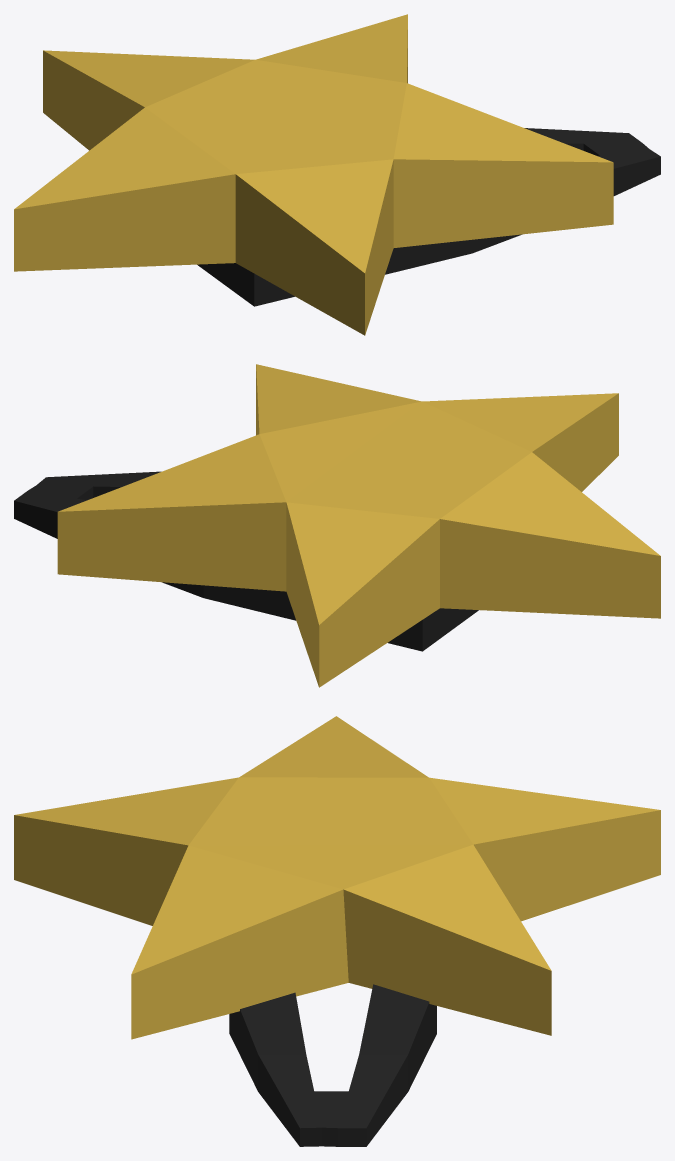
The model's file is starclip old.fbx.
3 views of the same model, one above another, from view 1: azimuth 30°, elevation 25°; view 2: azimuth 150°, elevation 25°; view 3: azimuth 270°, elevation 25° (orthographic). The views are drawn at different scales.
Parts seen in each view (by area): view 1: Plane, Plane.001; view 2: Plane, Plane.001; view 3: Plane, Plane.001.
Part boxes in pixels (left/top/right/bottom): Plane: left=14, top=14, right=613, bottom=335; Plane.001: left=197, top=128, right=660, bottom=306; Plane: left=57, top=364, right=660, bottom=687; Plane.001: left=14, top=471, right=478, bottom=651; Plane: left=14, top=716, right=660, bottom=1039; Plane.001: left=229, top=984, right=436, bottom=1146.
Bounding box in the file's own units: 623 × 126 × 531.
